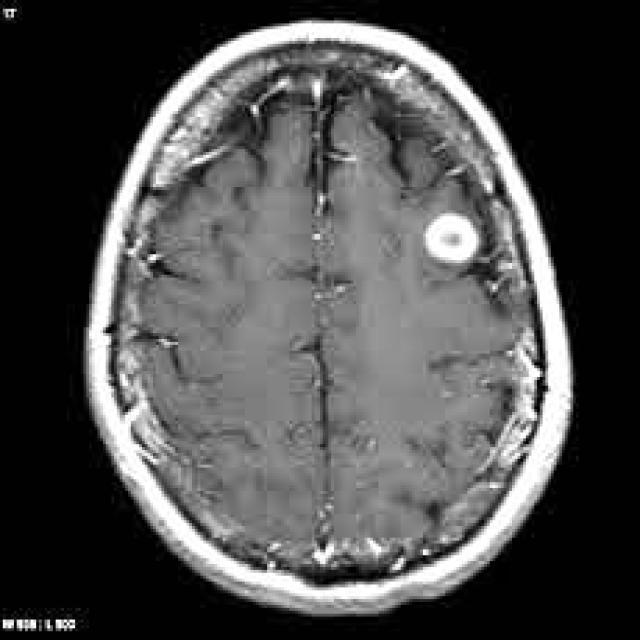Tumor: (420, 203, 483, 270)
